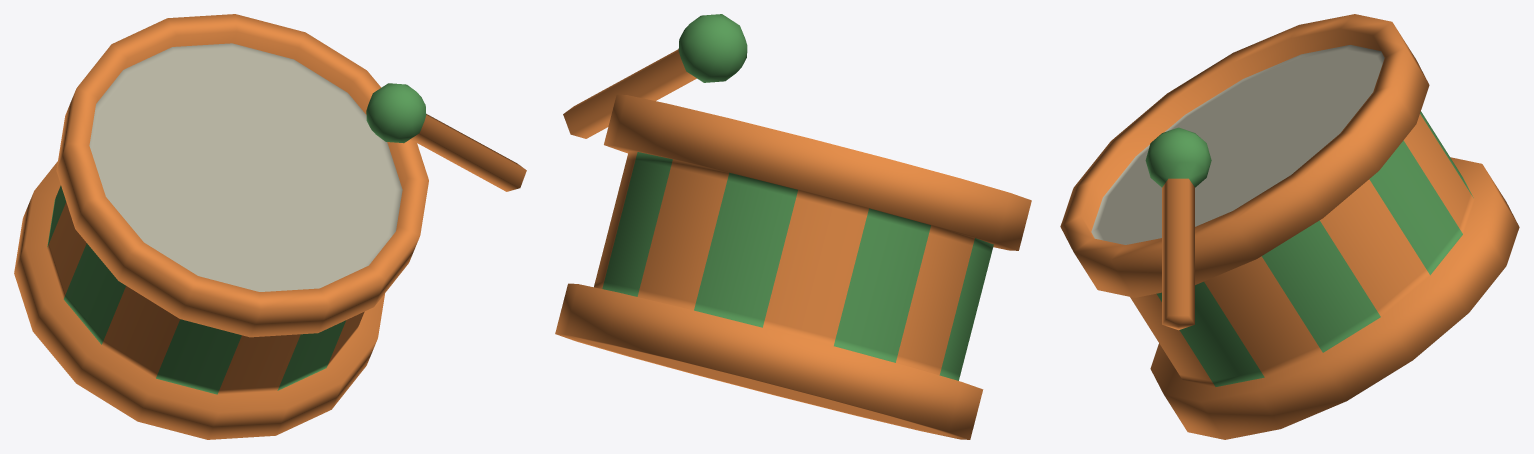
Rendered from Zabumba.glb.
3 renders of one model, left to right at view 1: azimuth 30°, elevation 25°; view 2: azimuth 150°, elevation 25°; view 3: azimuth 270°, elevation 25°, orthographic. The views are drawn at different scales.
Visible parts, largest first — view 1: Zabumba; view 2: Zabumba; view 3: Zabumba.
Boxes of the visible parts, box(x1,y1,x2,y2) form: Zabumba: box(14, 14, 526, 439); Zabumba: box(555, 14, 1031, 439); Zabumba: box(1060, 14, 1519, 439).
Size of the model in its own units: 1.33 by 1.05 by 1.21.
